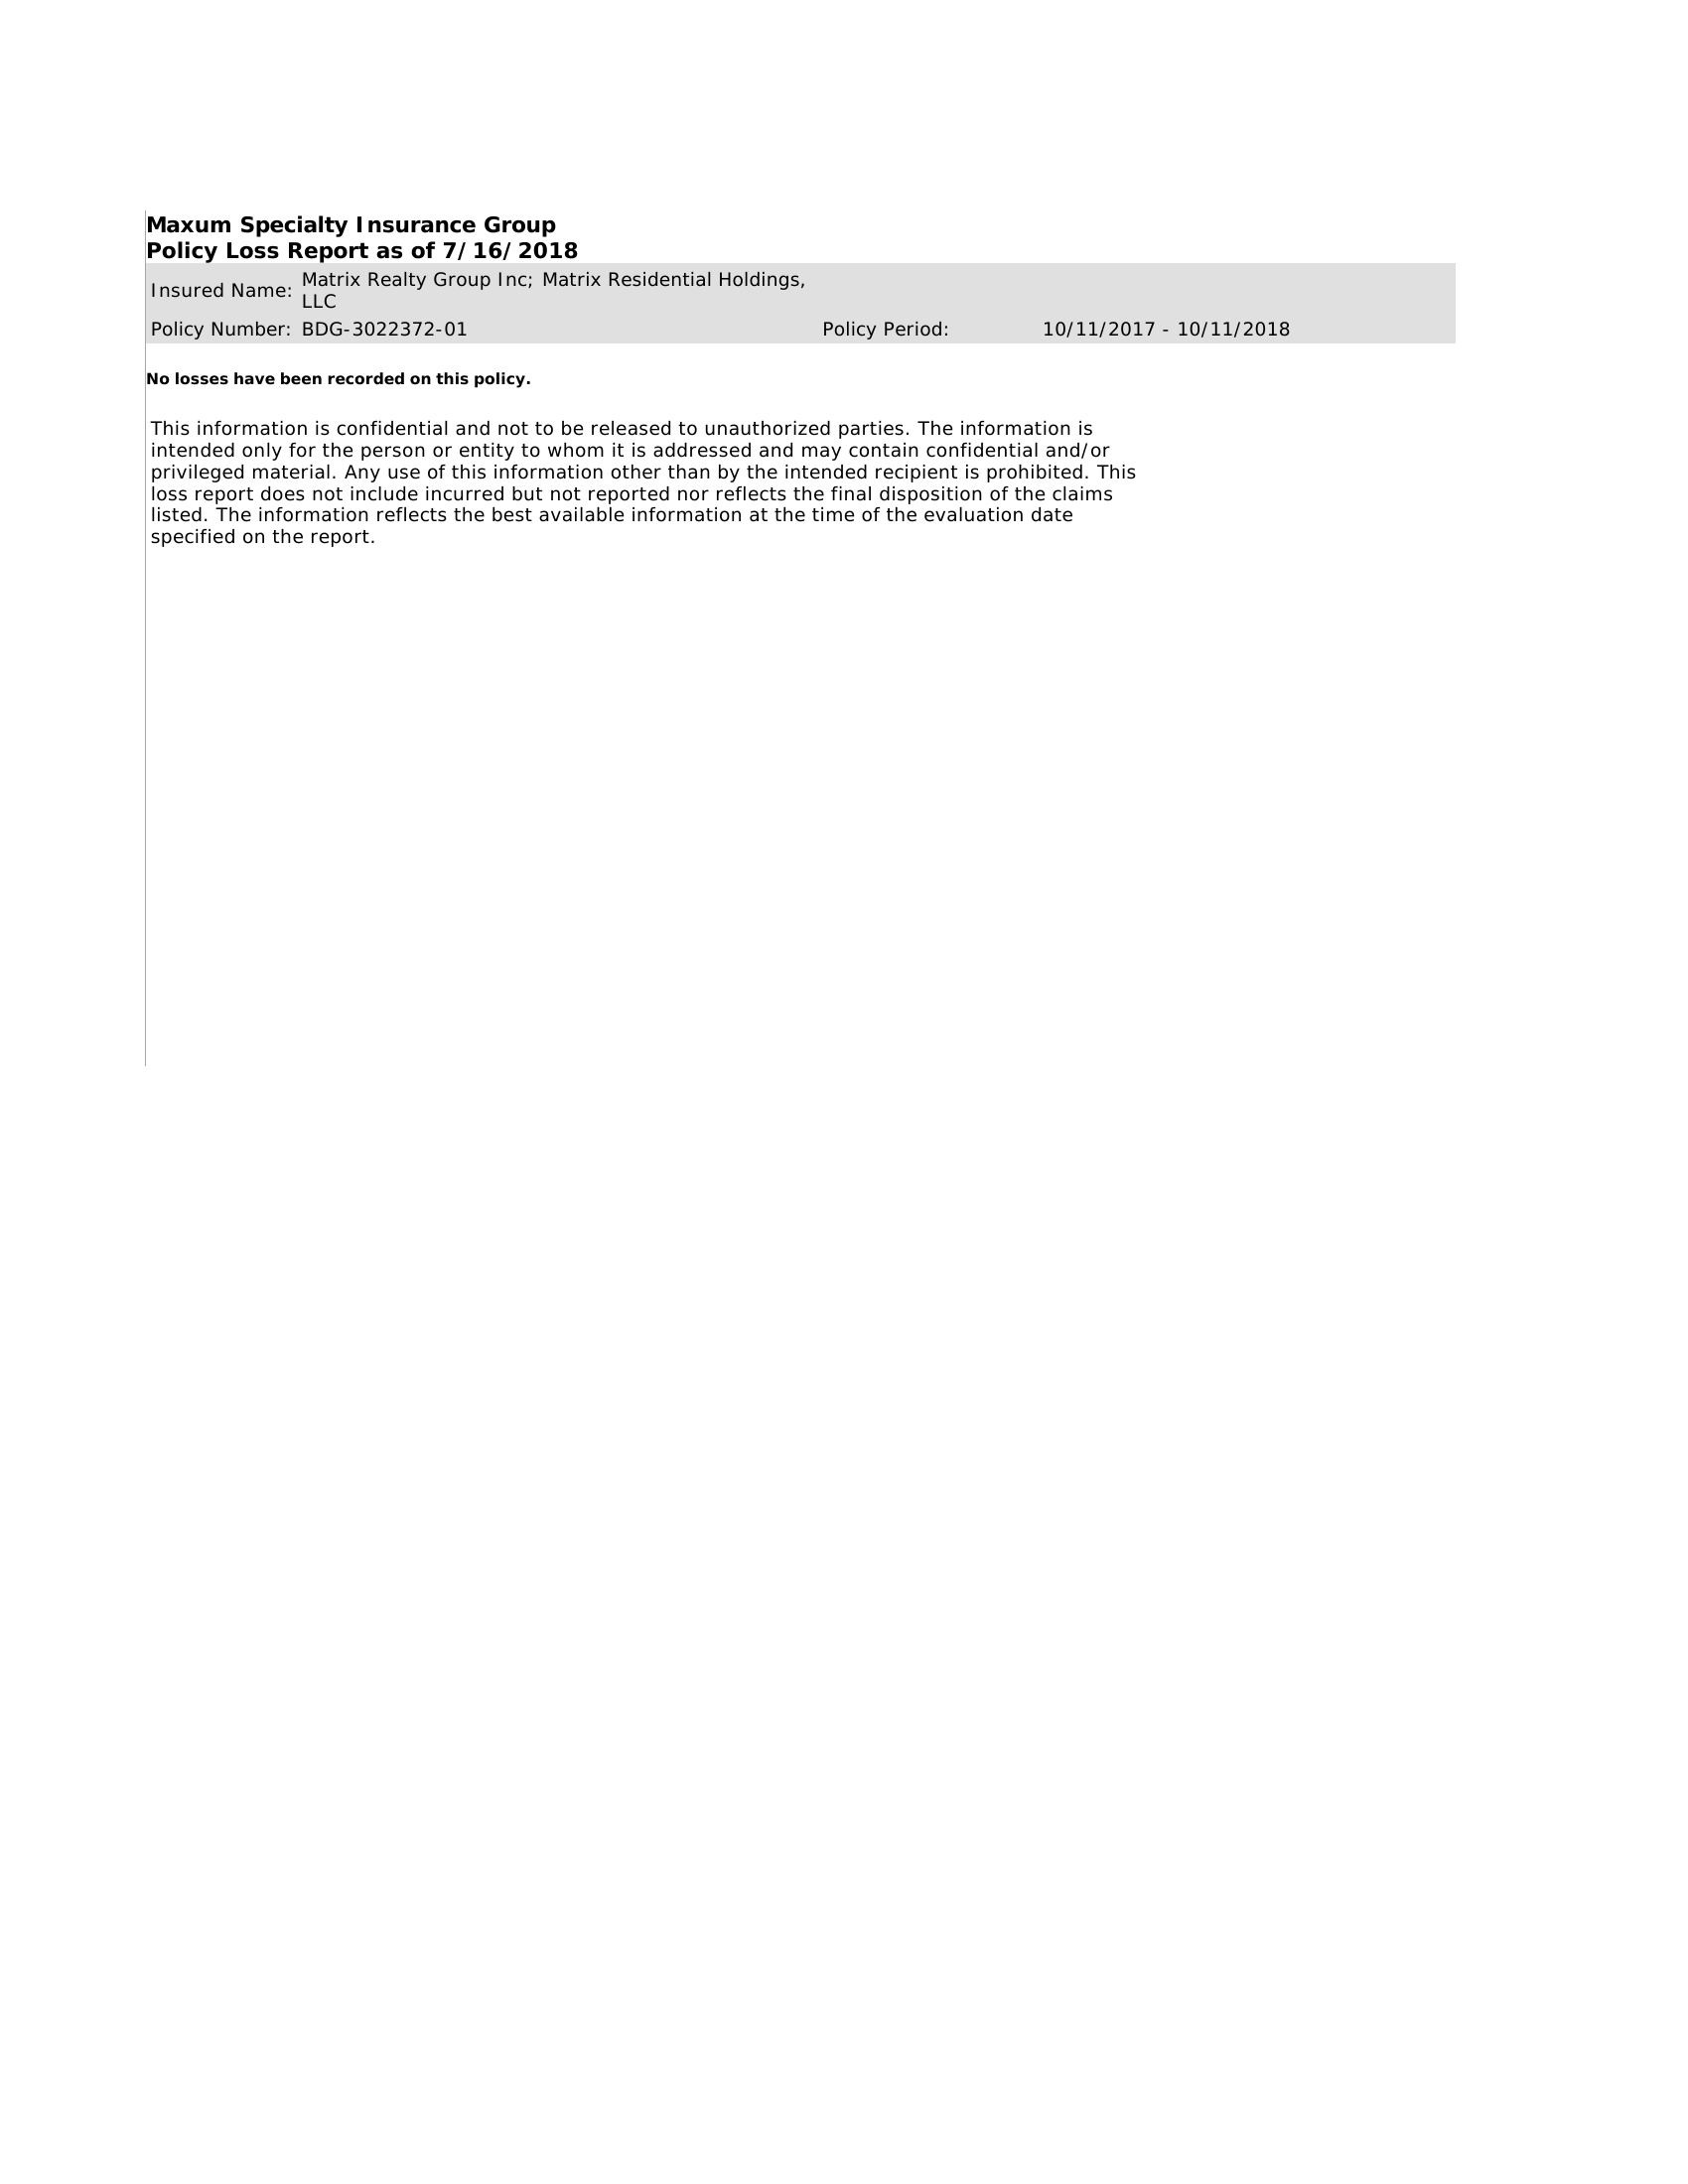No-loss: (122, 261, 1555, 417)
